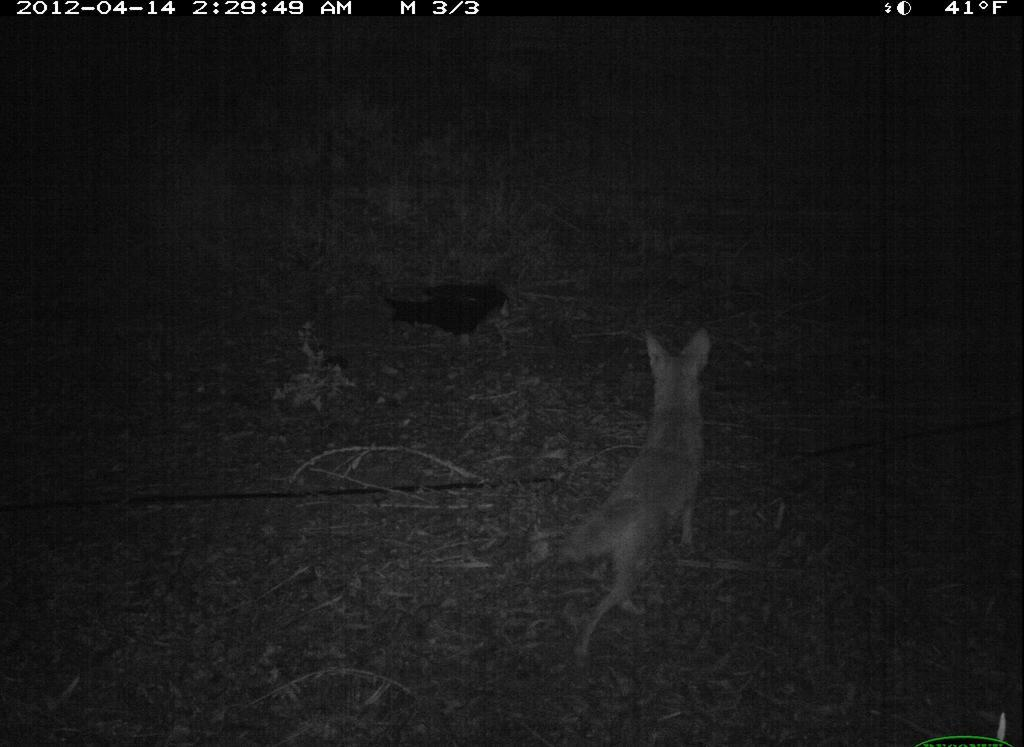coyote: (543, 319, 735, 662)
